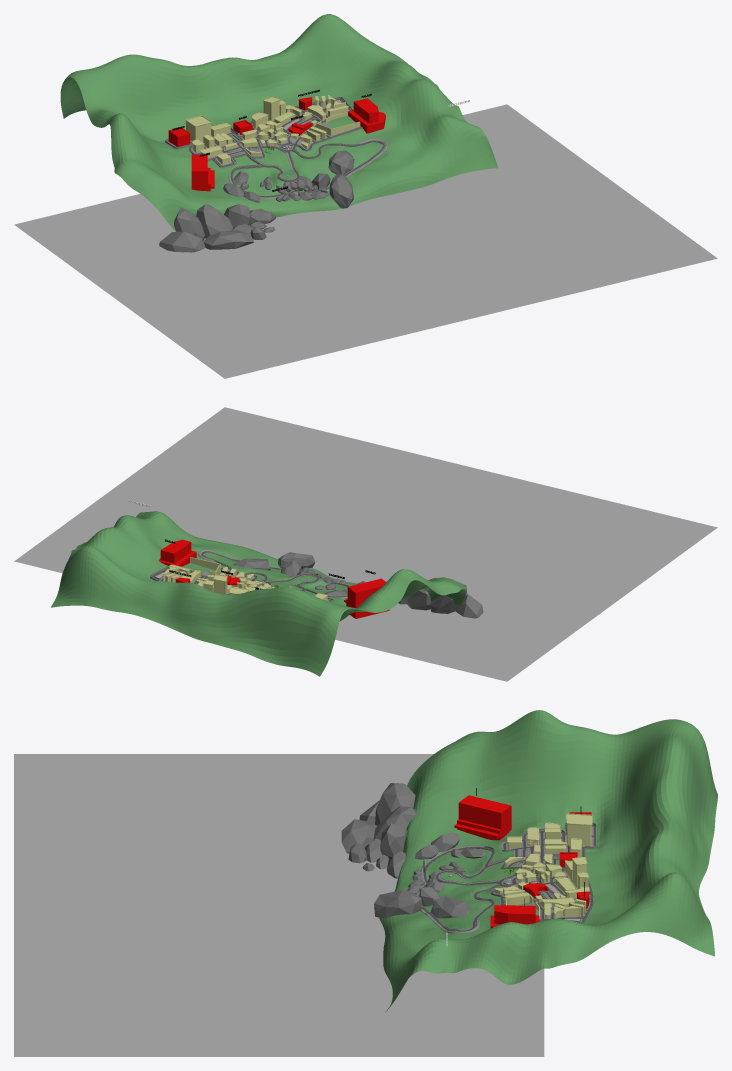
File: RoadLayoutA.fbx
3 renders of one model, top to bottom at view 1: azimuth 30°, elevation 25°; view 2: azimuth 150°, elevation 25°; view 3: azimuth 270°, elevation 25°, orthographic. The views are drawn at different scales.
Parts seen in each view (by area): view 1: OceanMesh, pPlane2, polySurface115, pSphere36, pSphere33, pCube96, pSphere37, pSphere23, pSphere32; view 2: OceanMesh, pPlane2, polySurface115, pCube96, polySurface72, pSphere32; view 3: OceanMesh, pPlane2, polySurface115, pCube96, pSphere23, pSphere32, pSphere36, polySurface72, polySurface58, pSphere34, pSphere44, pSphere33.
Part boxes in pixels (x1,y1,x2,y2): OceanMesh: (14,104,717,378); pPlane2: (60,14,498,231); polySurface115: (166,98,385,197); pSphere36: (203,230,253,249); pSphere33: (196,204,233,238); pCube96: (191,154,214,191); pSphere37: (159,231,205,252); pSphere23: (329,174,353,208); pSphere32: (174,207,205,240); OceanMesh: (14,407,717,681); pPlane2: (50,511,466,676); polySurface115: (151,551,349,601); pCube96: (344,578,389,618); polySurface72: (160,539,191,563); pSphere32: (430,582,467,613); OceanMesh: (14,754,544,1056); pPlane2: (379,710,717,1012); polySurface115: (418,824,596,931); pCube96: (454,795,511,840); pSphere23: (374,890,422,918); pSphere32: (375,783,415,825); pSphere36: (341,819,377,853); polySurface72: (494,905,535,924); polySurface58: (566,813,592,846); pSphere34: (380,823,407,858); pSphere44: (430,895,470,918); pSphere33: (373,806,417,840).
Bounding box in the file's own units: 2786 × 688 × 2737.
